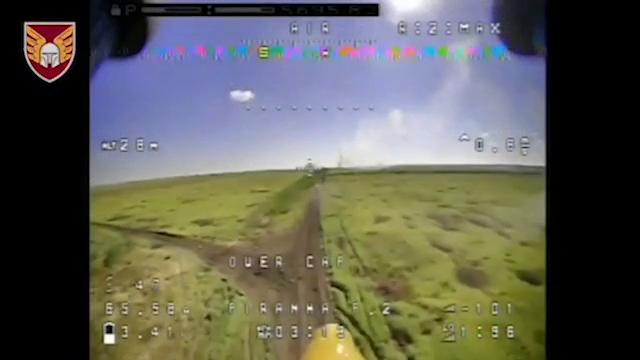tank: (307, 183, 323, 204)
